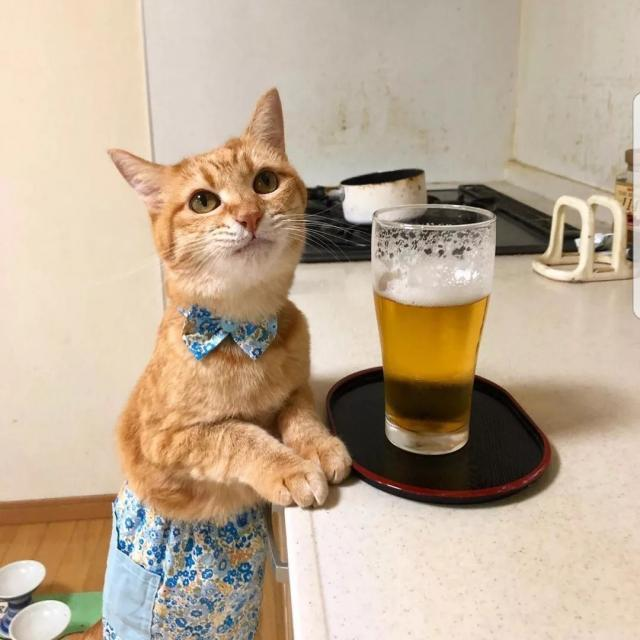cat: (87, 92, 372, 516)
